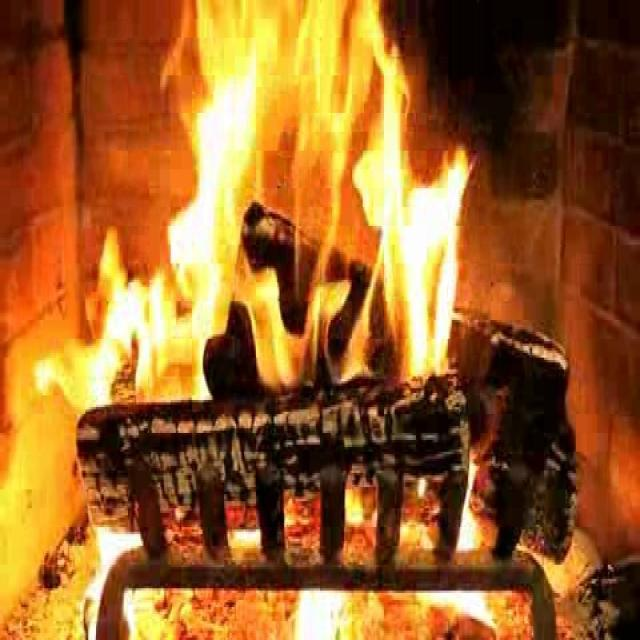Fire: (142, 13, 462, 404)
